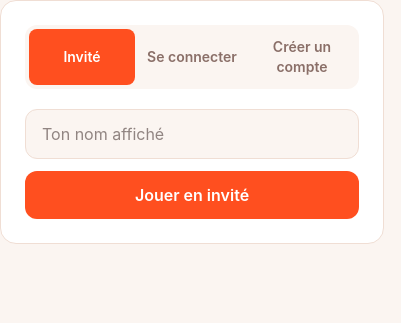
Test case: AuthPanel › bascule vers le formulaire d'inscription (AUTH-1)
Click the button "Créer un compte" at x=302, y=57, box [249,29,355,85]
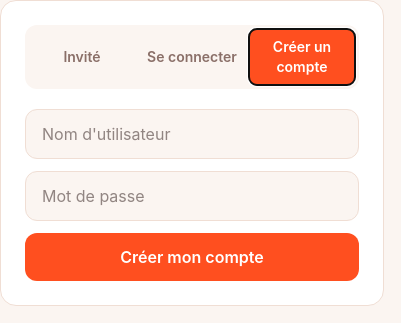
Now the button "Créer mon compte" is shown, box [25,233,359,281]
